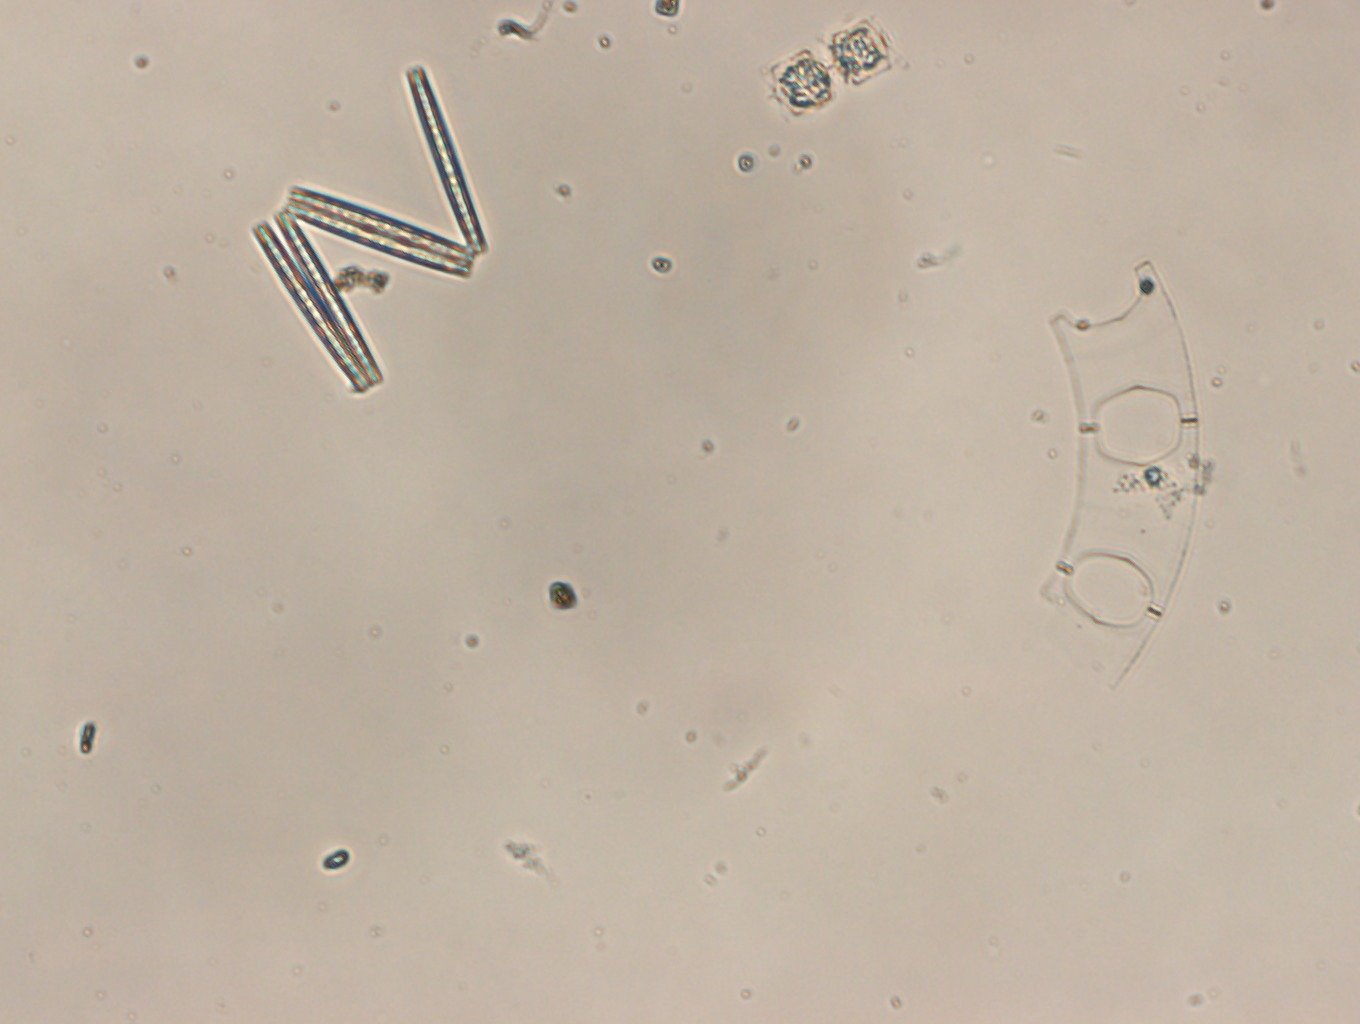chaetoceros: (757, 2, 913, 125)
eucampia: (1030, 261, 1202, 674)
thalassionema nitzschioides: (247, 65, 490, 397)
